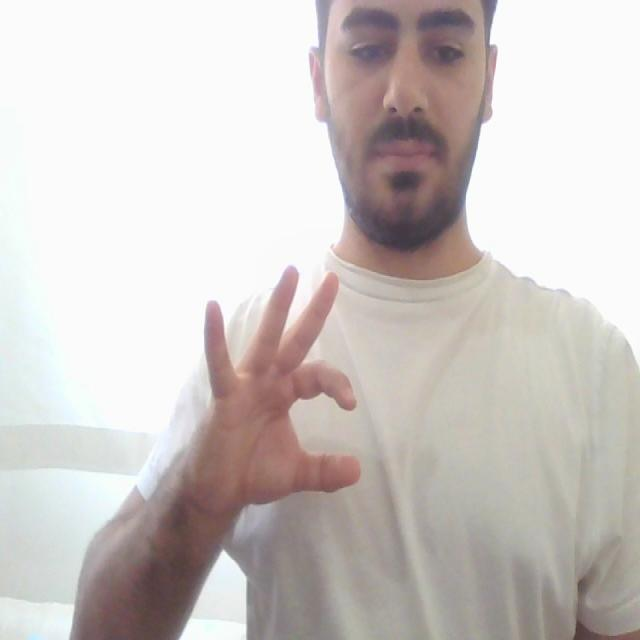Tuvalet: (153, 239, 384, 539)
